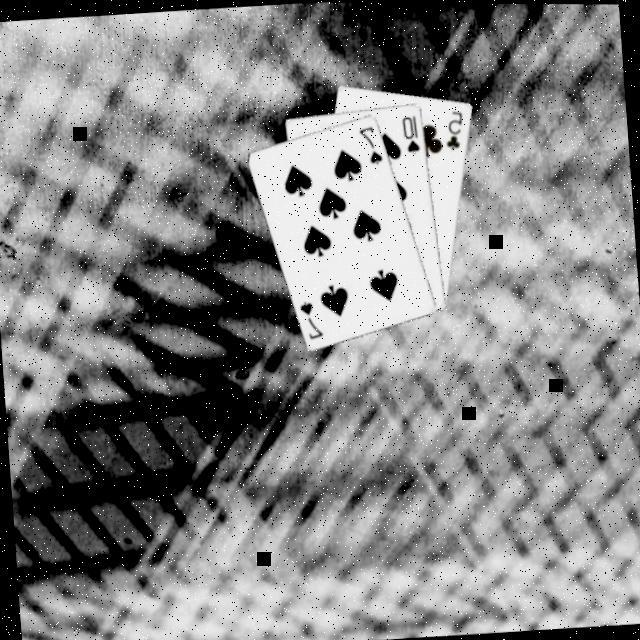10S: (397, 113, 422, 158)
5C: (439, 108, 467, 155)
7S: (354, 123, 385, 169), (295, 297, 326, 343)
